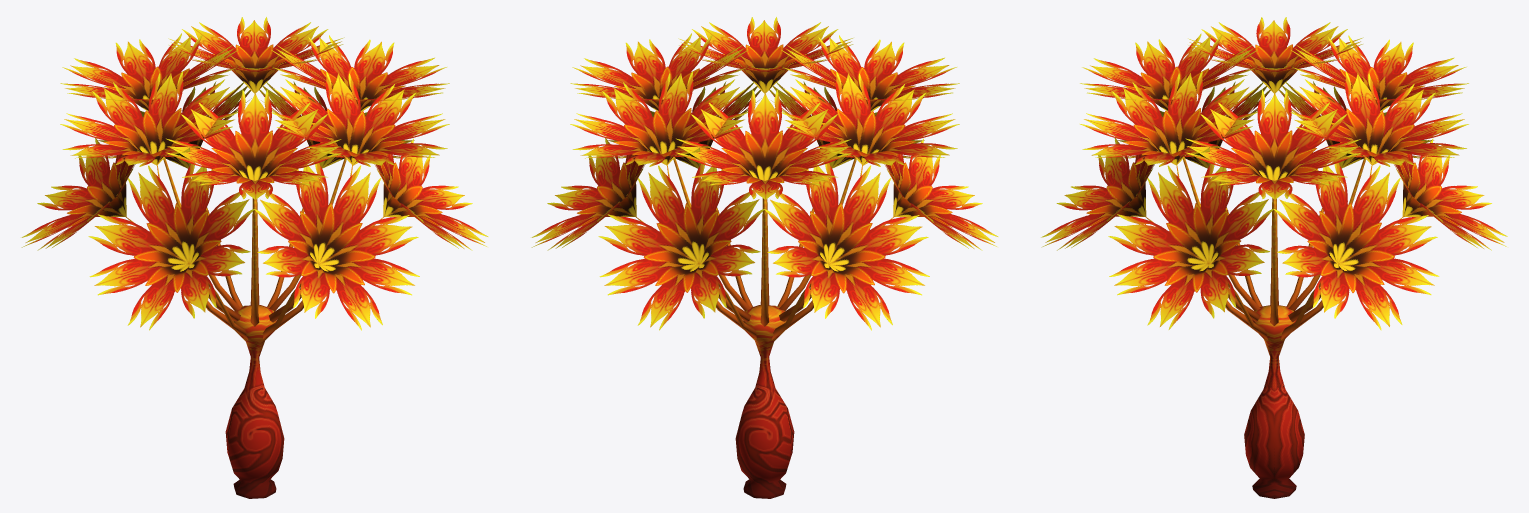
The model's file is Red_Tree_06b.FBX.
3 renders of one model, left to right at view 1: azimuth 30°, elevation 25°; view 2: azimuth 150°, elevation 25°; view 3: azimuth 270°, elevation 25°, orthographic.
Parts seen in each view (by area): view 1: Red_Tree_06b; view 2: Red_Tree_06b; view 3: Red_Tree_06b.
Boxes of the visible parts, bbox=[...] form: Red_Tree_06b: bbox=[21, 17, 488, 498]; Red_Tree_06b: bbox=[531, 17, 998, 498]; Red_Tree_06b: bbox=[1041, 17, 1507, 498].
Bounding box in the file's own units: 265 × 269 × 283.
